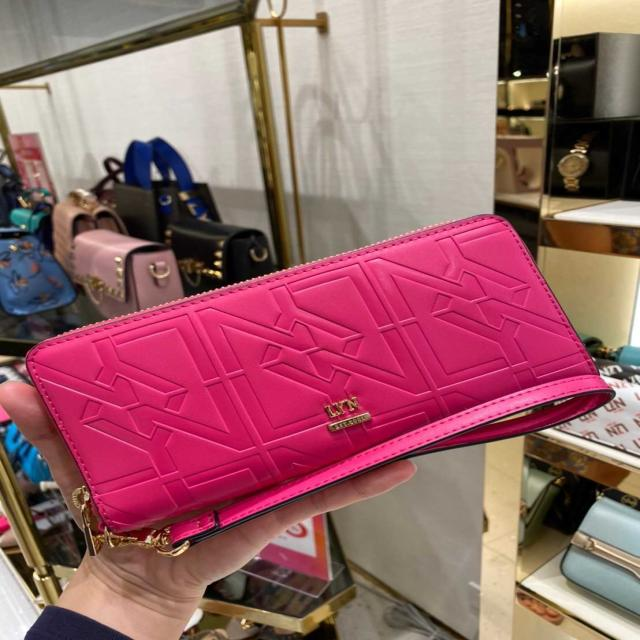bag: (0, 212, 619, 560)
